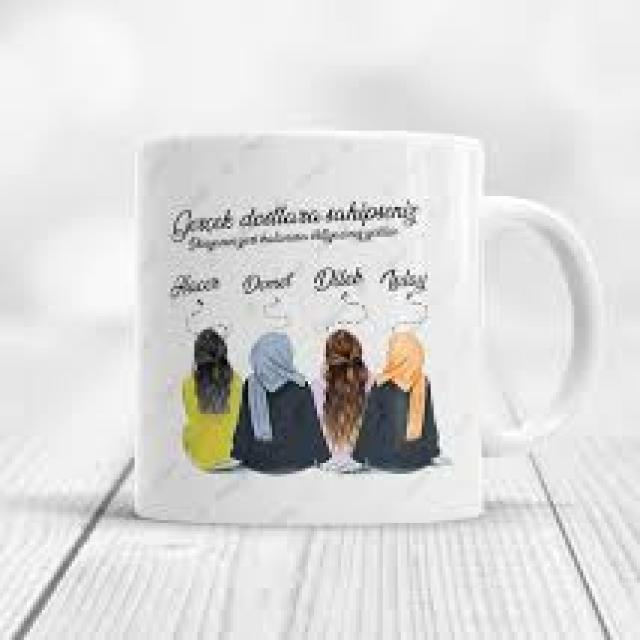taza: (133, 129, 604, 527)
